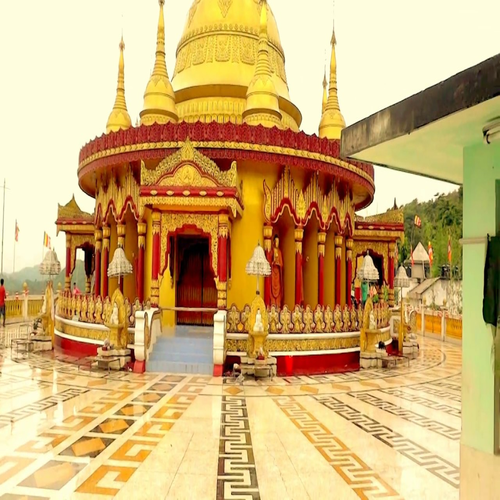Temple: (50, 17, 400, 377)
